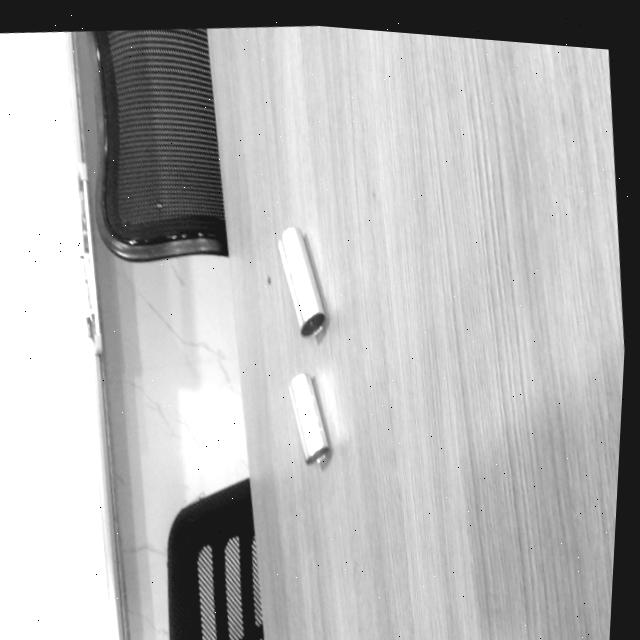Co_Lon: (273, 223, 330, 337)
Co_Nho: (285, 370, 333, 464)
